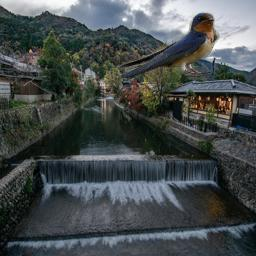Swallow: (101, 11, 220, 80)
